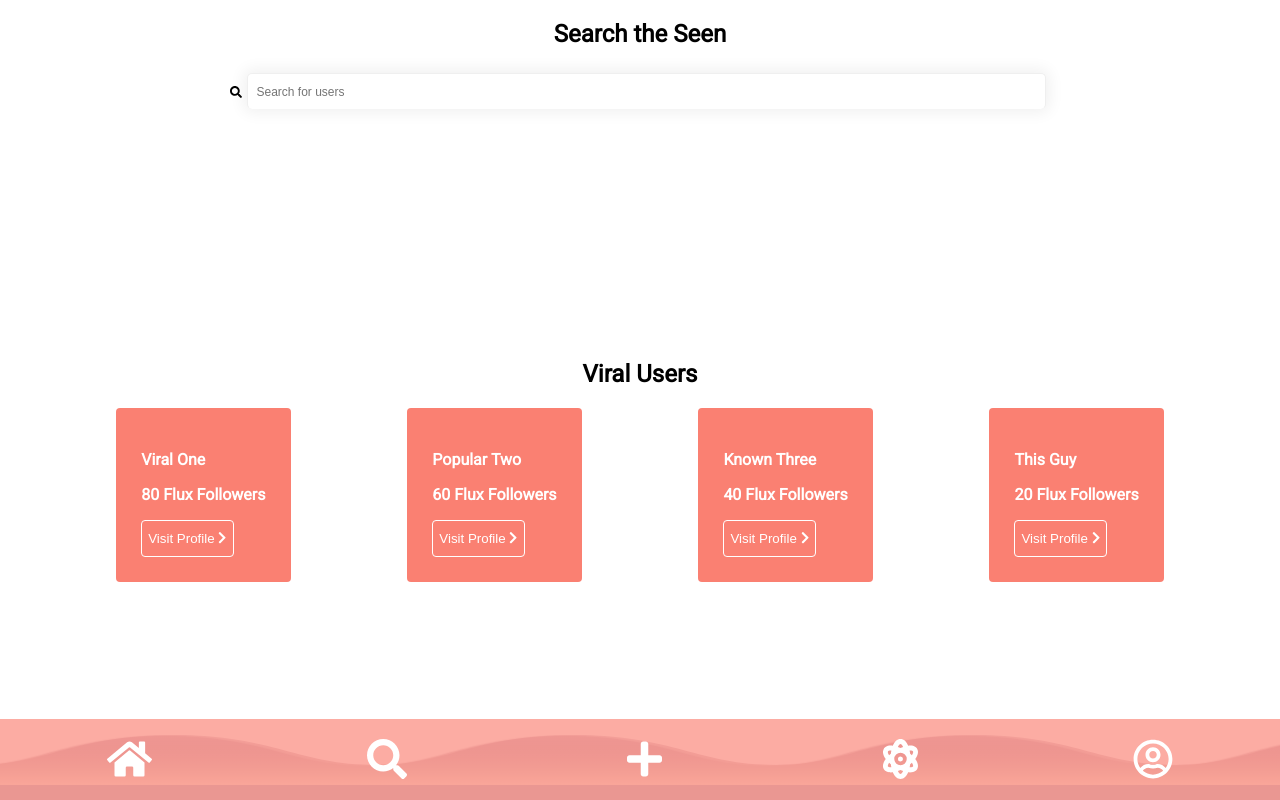
Scenario: Search Page › should be able to search user base for users
The width and height of the screenshot is (1280, 800).
Type "Person" into the field with placeholder "Search for users" at (647, 91), box [247, 73, 1046, 109]
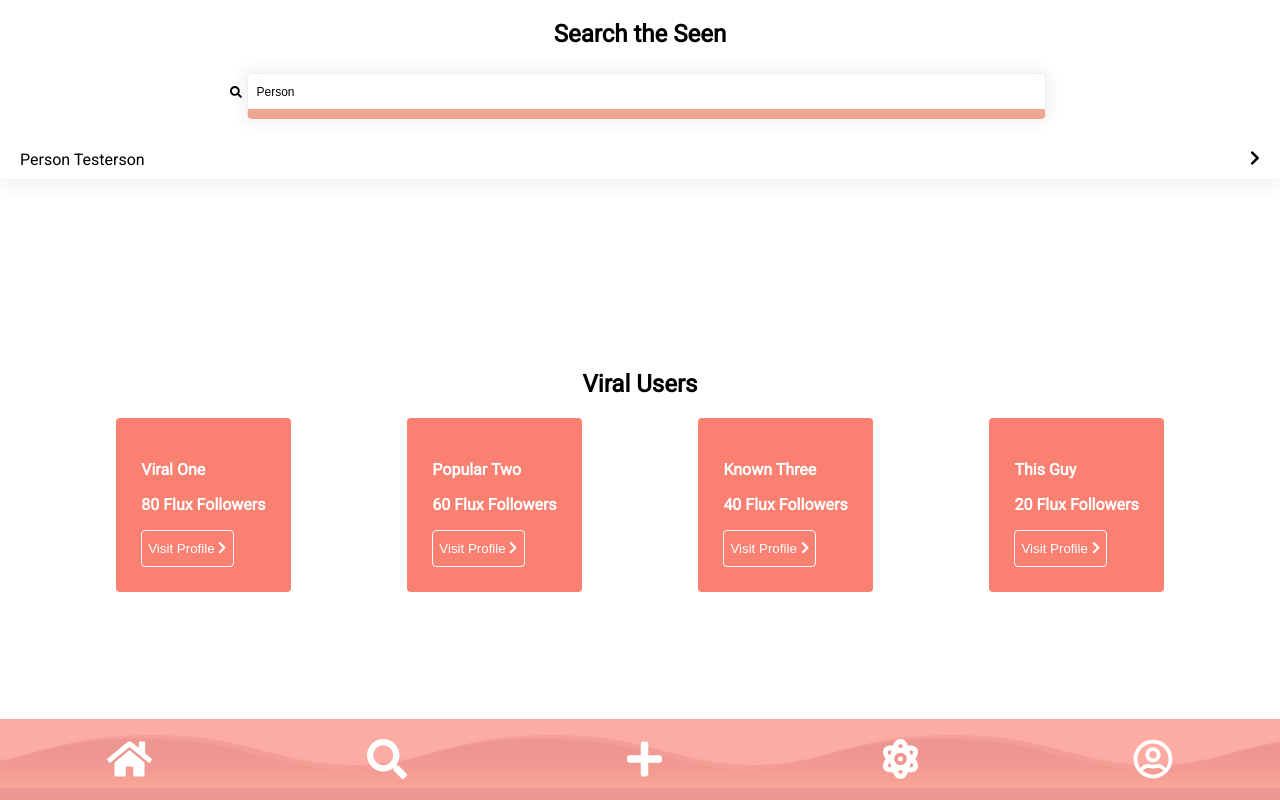
Expected: the text with class "user-card" reads "Person Testerson", [20, 150, 145, 169]
